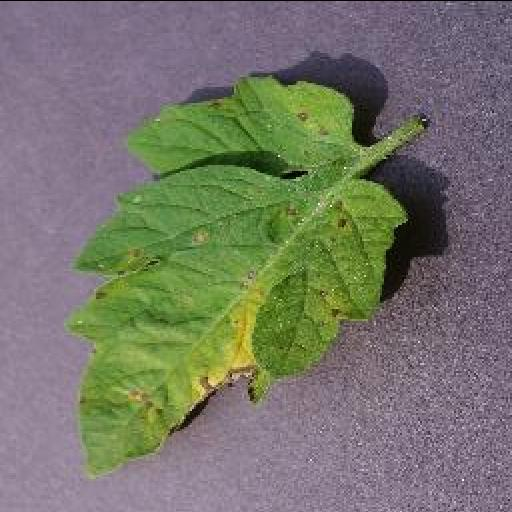disease_tomato: (75, 69, 409, 477)
